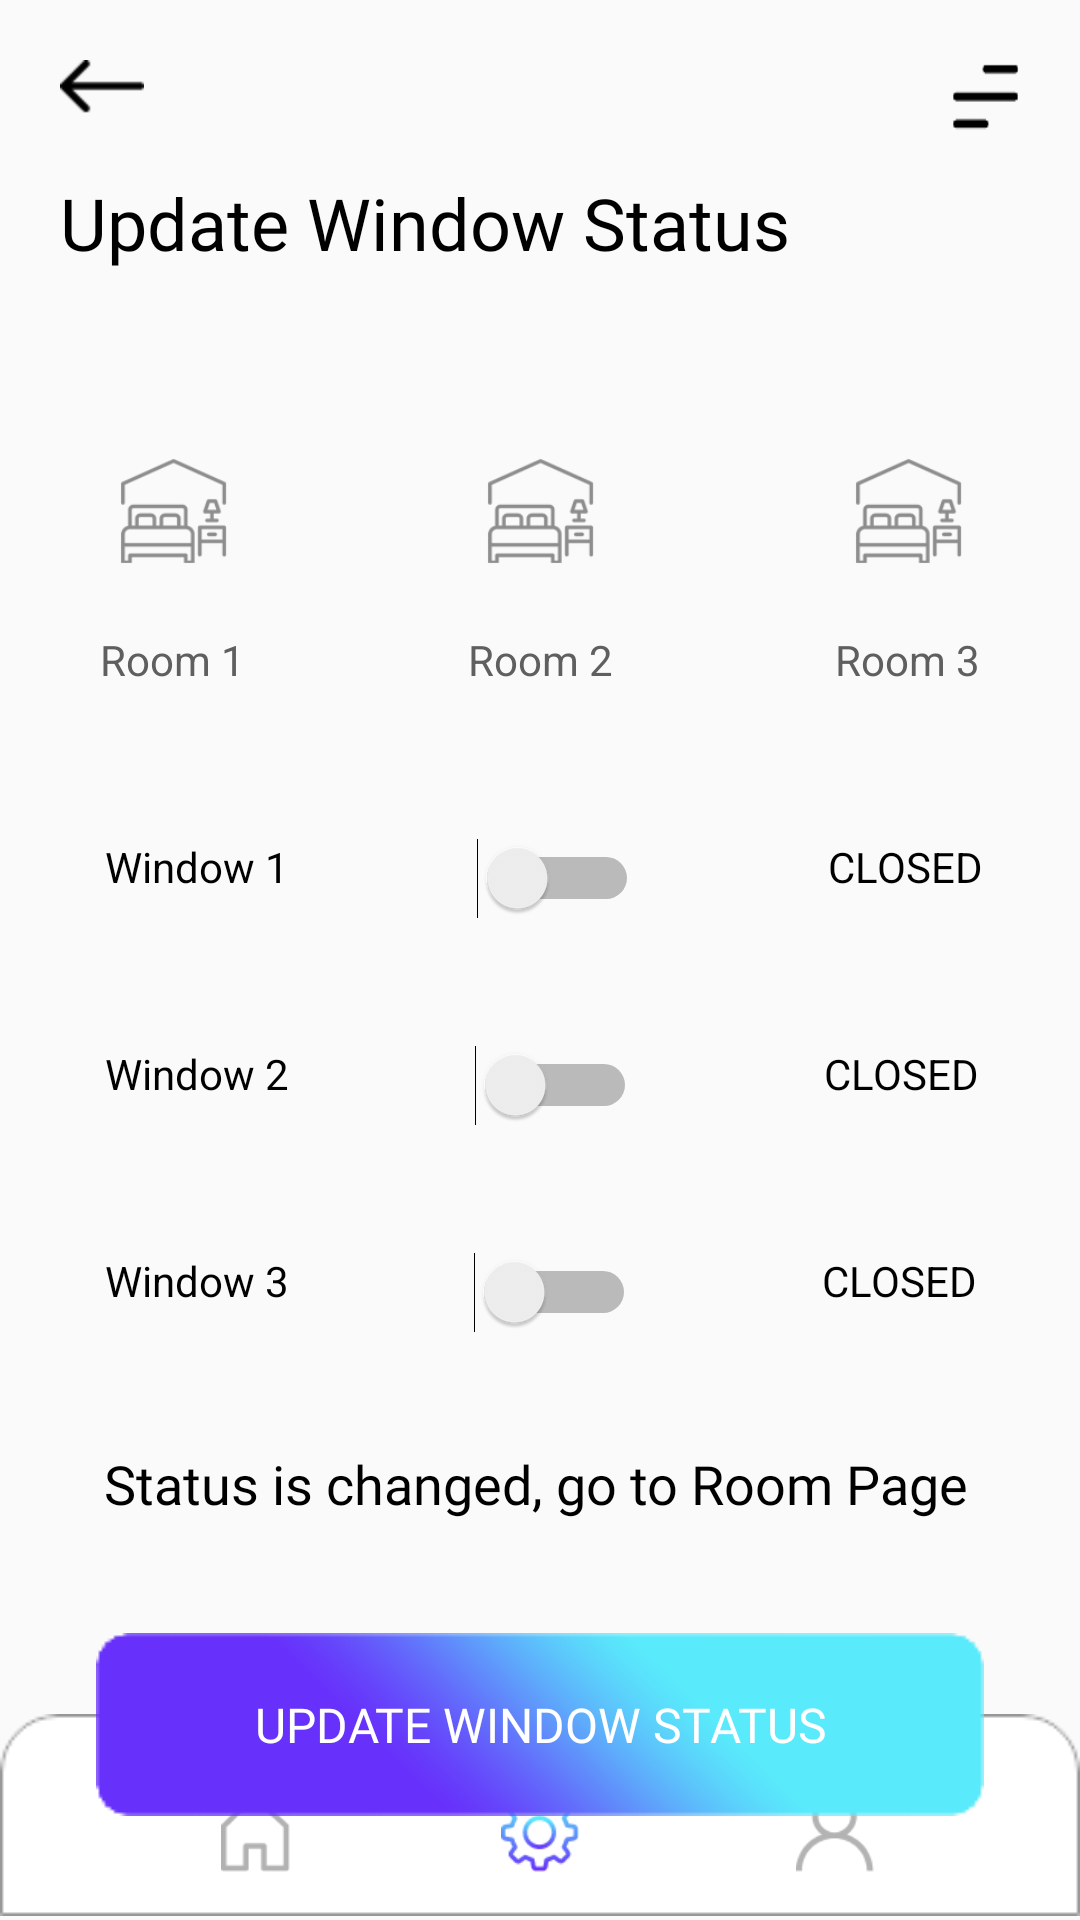

Icons on this 1080x1920 Android screen, each with its box as (x1, y1, x2, y2):
home: (221, 1794, 290, 1871)
left arrow: (60, 60, 144, 113)
settings: (501, 1794, 579, 1872)
user: (796, 1794, 874, 1871)
